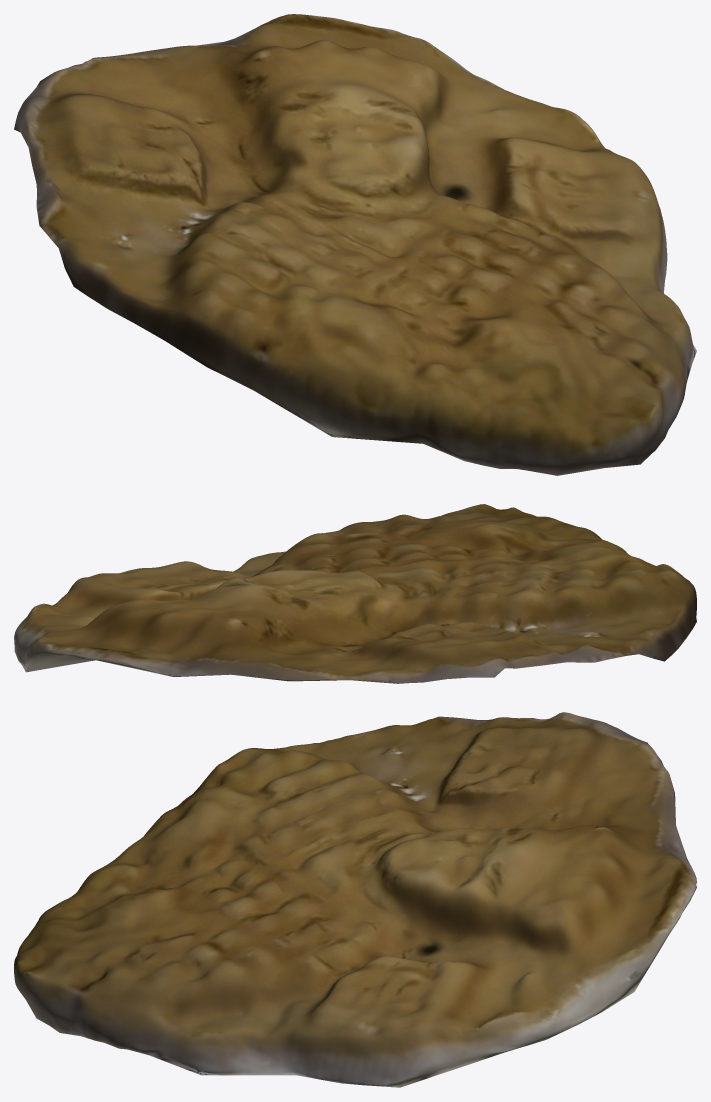
3 views of the same model, one above another, from view 1: azimuth 30°, elevation 25°; view 2: azimuth 150°, elevation 25°; view 3: azimuth 270°, elevation 25° (orthographic). The views are drawn at different scales.
Bounding box in the file's own units: 0.4619 × 0.15 × 0.514.
1 material, 1 textured.
